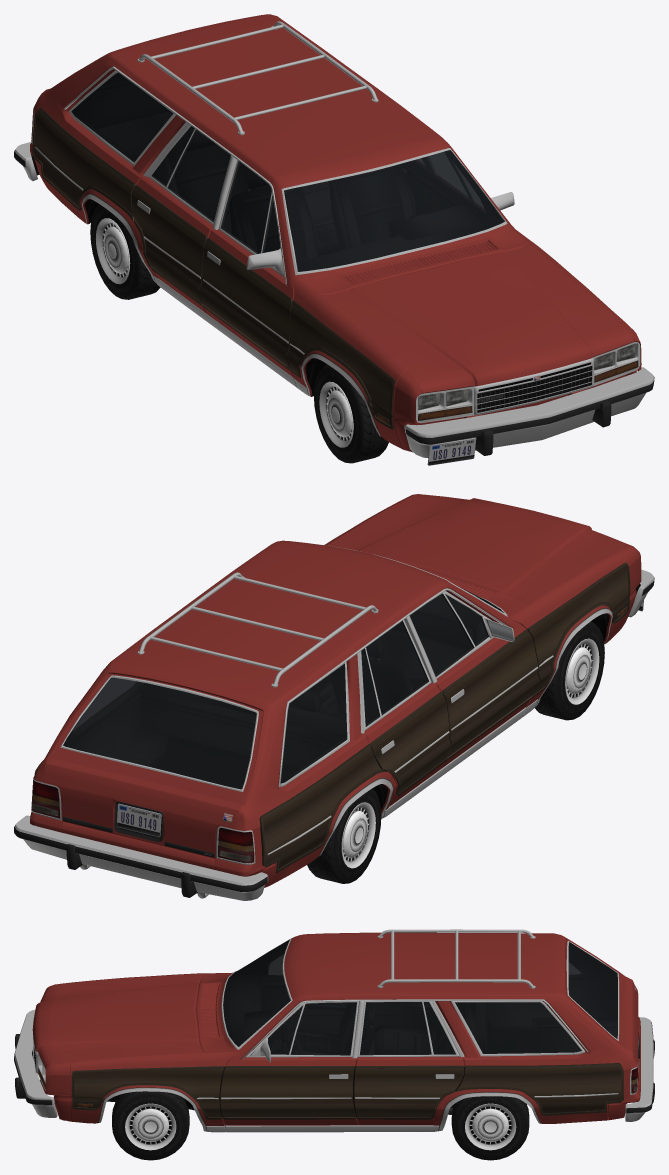
The model's file is fairheaven-sw-80-low-poly-model-ff4cf2.glb.
3 views of the same model, one above another, from view 1: azimuth 30°, elevation 25°; view 2: azimuth 150°, elevation 25°; view 3: azimuth 270°, elevation 25° (orthographic). The views are drawn at different scales.
Parts seen in each view (by area): view 1: body, wheel-front-right, wheel-back-right; view 2: body, wheel-back-right, wheel-front-right; view 3: body, wheel-back-left, wheel-front-left.
Part boxes in pixels (box(x1,y1,x2,y2)): body: box(14, 14, 654, 465); wheel-front-right: box(286, 300, 395, 463); wheel-back-right: box(31, 108, 160, 299); body: box(14, 494, 654, 900); wheel-back-right: box(216, 744, 393, 883); wheel-front-right: box(523, 562, 630, 720); body: box(14, 929, 654, 1132); wheel-back-left: box(438, 1062, 638, 1160); wheel-front-left: box(71, 1066, 226, 1160).
Size of the model in its own units: 1.83 by 1.4 by 5.
8 materials, 7 textured.
